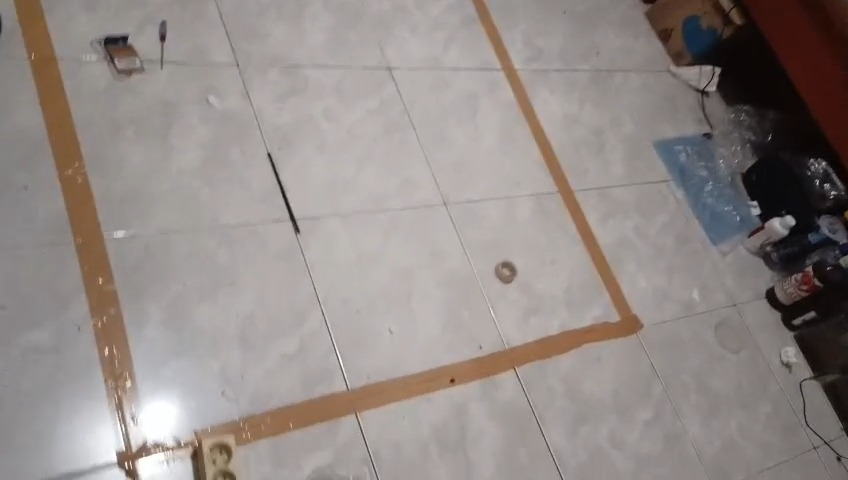floor marking: (196, 0, 642, 444), (15, 0, 195, 477)
